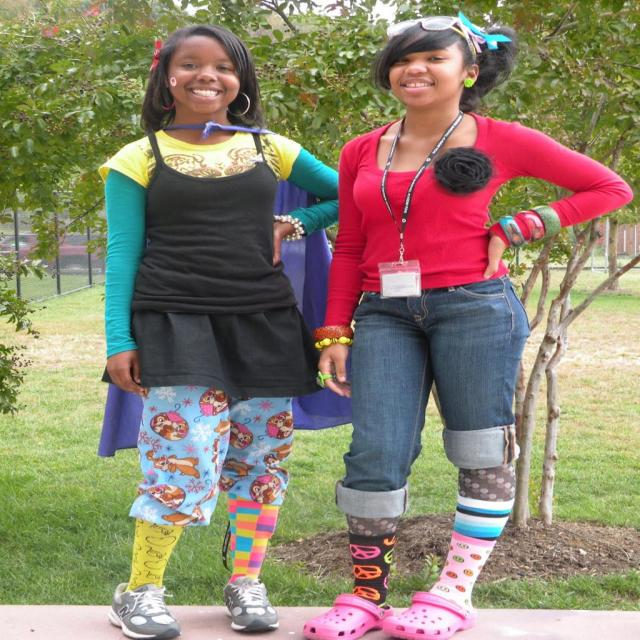nomask: (172, 38, 242, 112), (388, 36, 463, 105)
